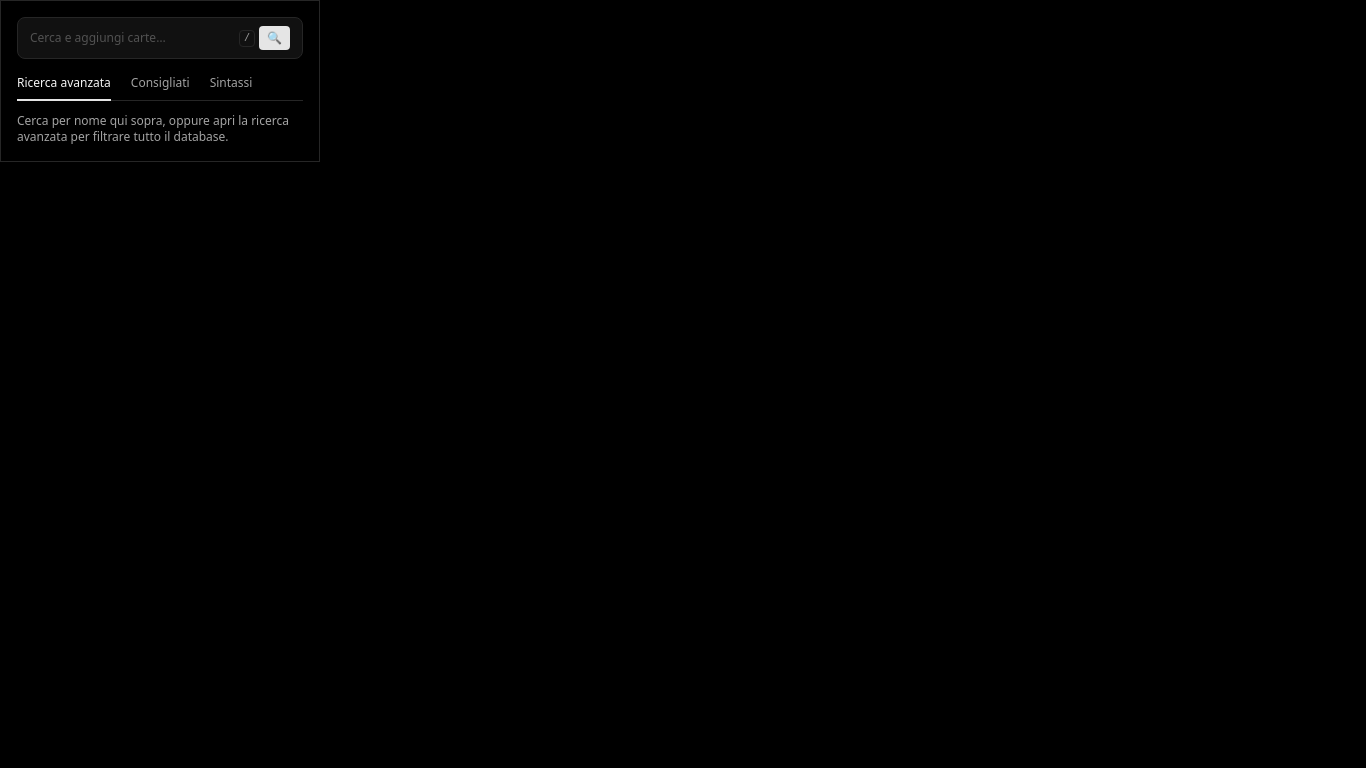
Scenario: SearchPanel › modale avanzata: tipo + colori + ordinamento
Later steps or results of the test are not shown.
Click the tab "Ricerca avanzata": (64, 88) [17,75,111,101]
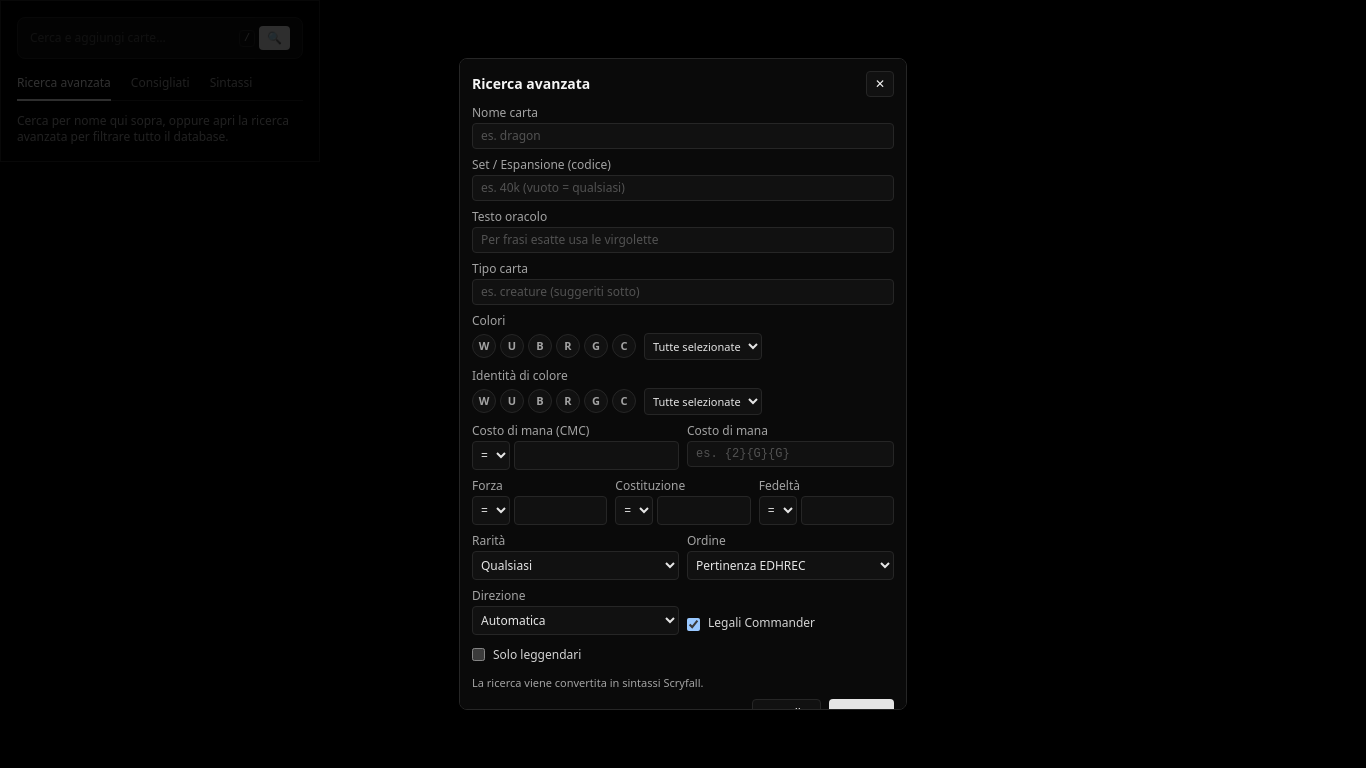
Now the dialog with test id "adv-modal" is shown, box [459,58,907,710]
